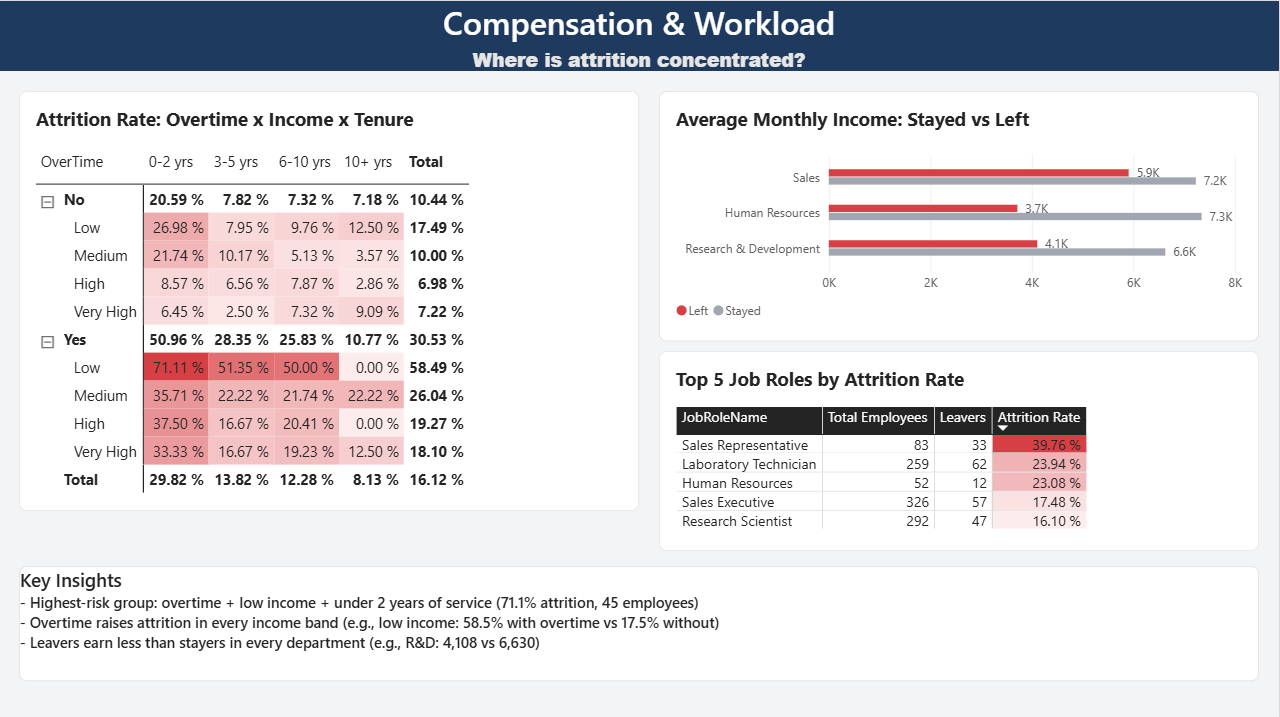

The dashboard page shown, as its layout file describes it:
{"tool":"powerbi","page":{"name":"Compensation & Workload","canvas":[1280,720],"ordinal":2},"visuals":[{"type":"shape","box":[0,0,1280,70],"z":0},{"type":"textbox","title":"Compensation & Workload","box":[20,0,1240,70],"z":1},{"type":"pivotTable","title":"Attrition Rate: Overtime x Income x Tenure","fields":{"Columns":["vw_HR_Full.TenureGroup"],"Rows":["vw_HR_Full.OverTime","vw_HR_Full.IncomeBand"],"Values":["vw_HR_Full.Attrition Rate"]},"box":[20,90,620,420],"z":2},{"type":"clusteredBarChart","title":"Average Monthly Income: Stayed vs Left","fields":{"Category":["vw_HR_Full.DepartmentName"],"Series":["vw_HR_Full.AttritionStatus"],"Y":["vw_HR_Full.Avg Monthly Income"]},"box":[660,90,600,250],"z":3},{"type":"tableEx","title":"Top 5 Job Roles by Attrition Rate","fields":{"Values":["vw_HR_Full.JobRoleName","vw_HR_Full.Total Employees","vw_HR_Full.Leavers","vw_HR_Full.Attrition Rate"]},"box":[660,350,600,200],"z":4},{"type":"textbox","box":[20,565,1240,115],"z":5}]}

Visuals, with their boxes in screenshot pixels (x1, y1, x2, y2), scaled from the page's 1280x720 canvas onto the 1280x717 screenshot:
shape: (0,0,1279,70)
"Compensation & Workload" textbox: (20,0,1260,70)
"Attrition Rate: Overtime x Income x Tenure" pivotTable: (20,90,640,508)
"Average Monthly Income: Stayed vs Left" clusteredBarChart: (660,90,1260,339)
"Top 5 Job Roles by Attrition Rate" tableEx: (660,349,1260,548)
textbox: (20,563,1260,677)
